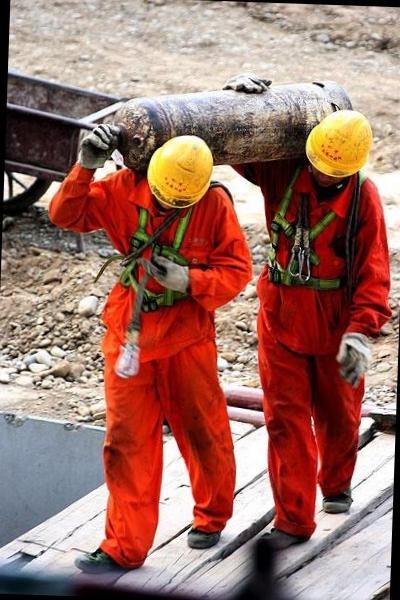Vest: (99, 204, 243, 369), (258, 179, 374, 381)
